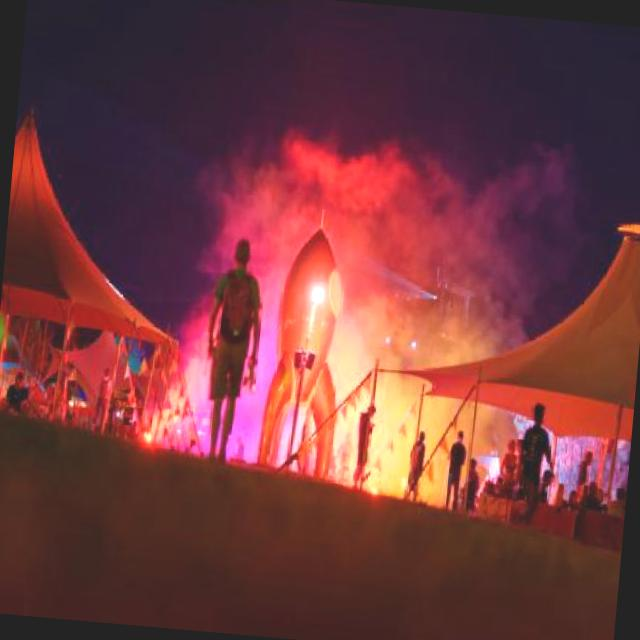Person: (194, 234, 271, 466), (510, 398, 560, 536), (438, 419, 466, 516), (402, 424, 431, 506), (350, 396, 376, 486), (0, 360, 34, 412), (292, 406, 316, 476), (496, 434, 522, 497), (458, 452, 483, 514), (94, 364, 116, 434), (574, 441, 599, 496), (116, 388, 138, 444), (334, 430, 358, 466), (581, 480, 605, 511), (606, 484, 626, 518), (230, 434, 248, 466), (538, 462, 552, 500), (564, 485, 580, 509)
